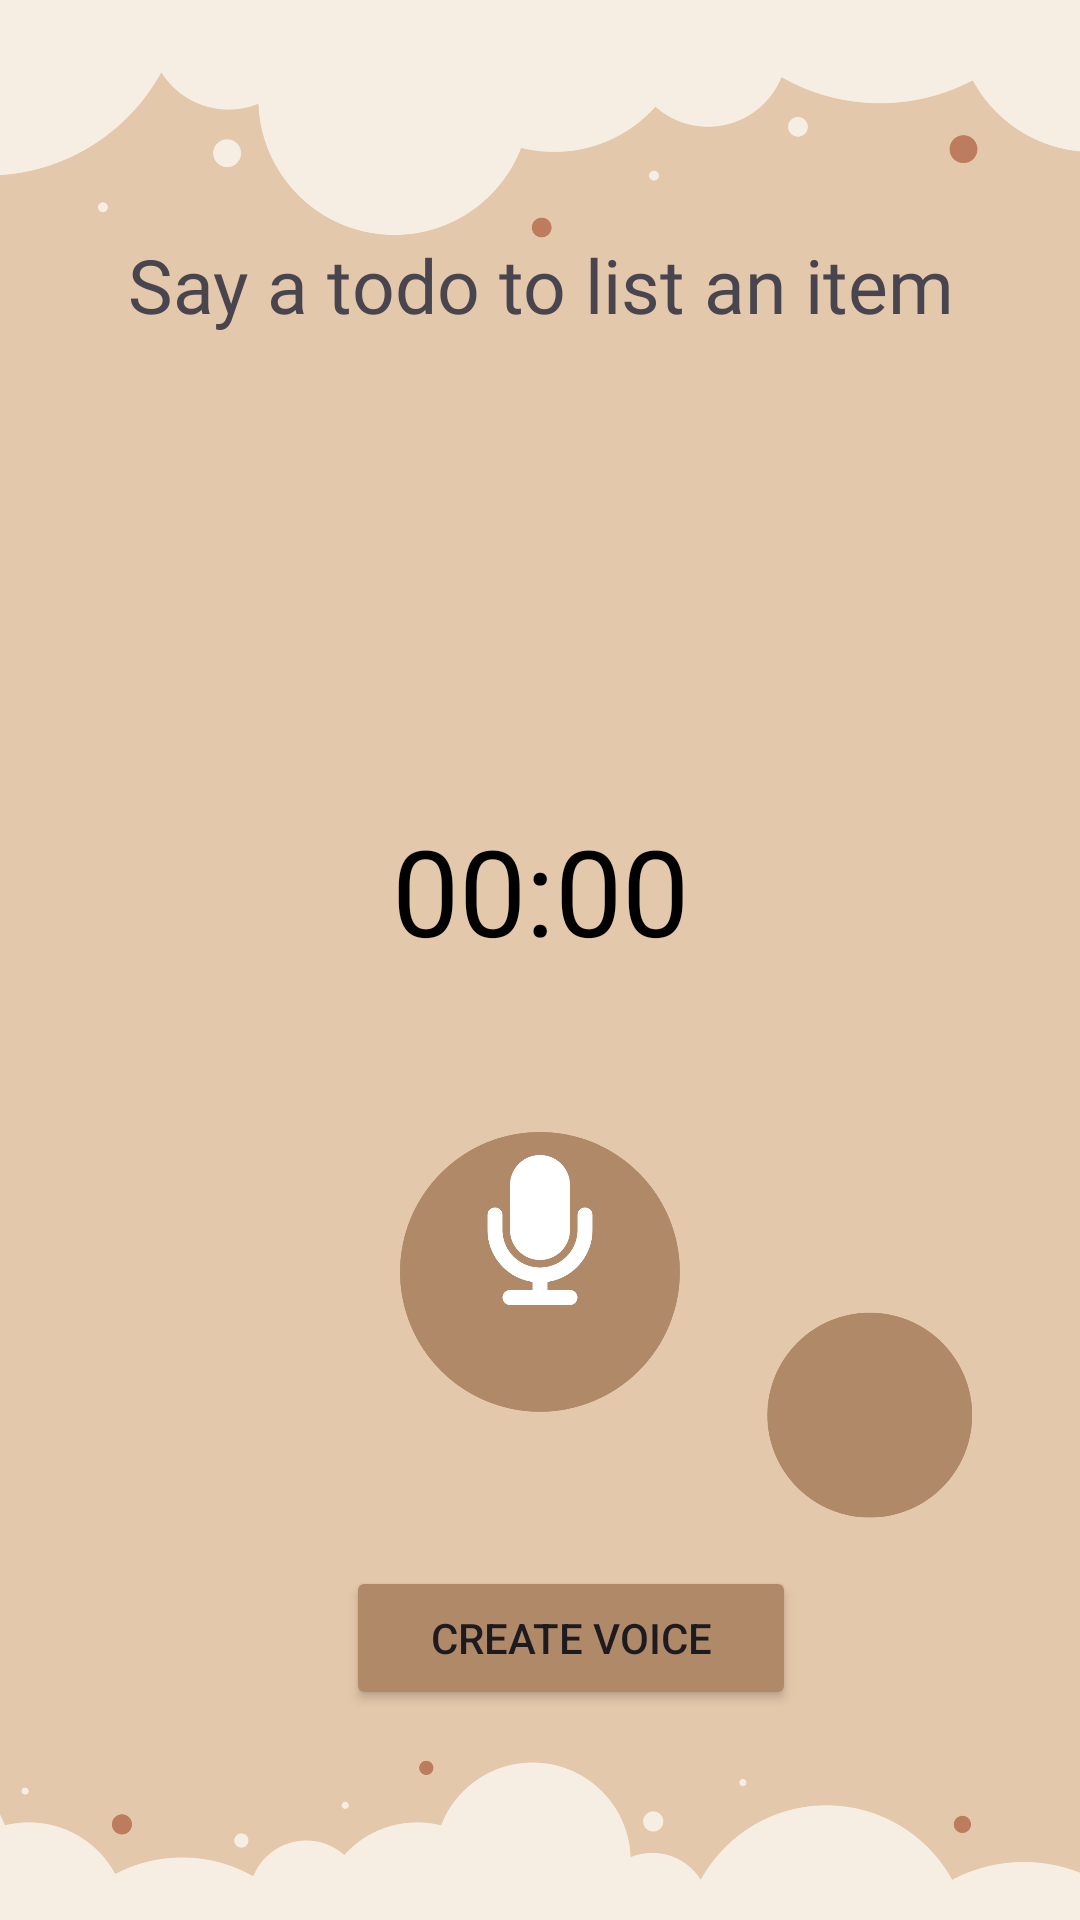

Where icons sit on this 1080px×1920px app screen, as (x1, y1, x2, y2):
recording in: (487, 1155, 593, 1305)
